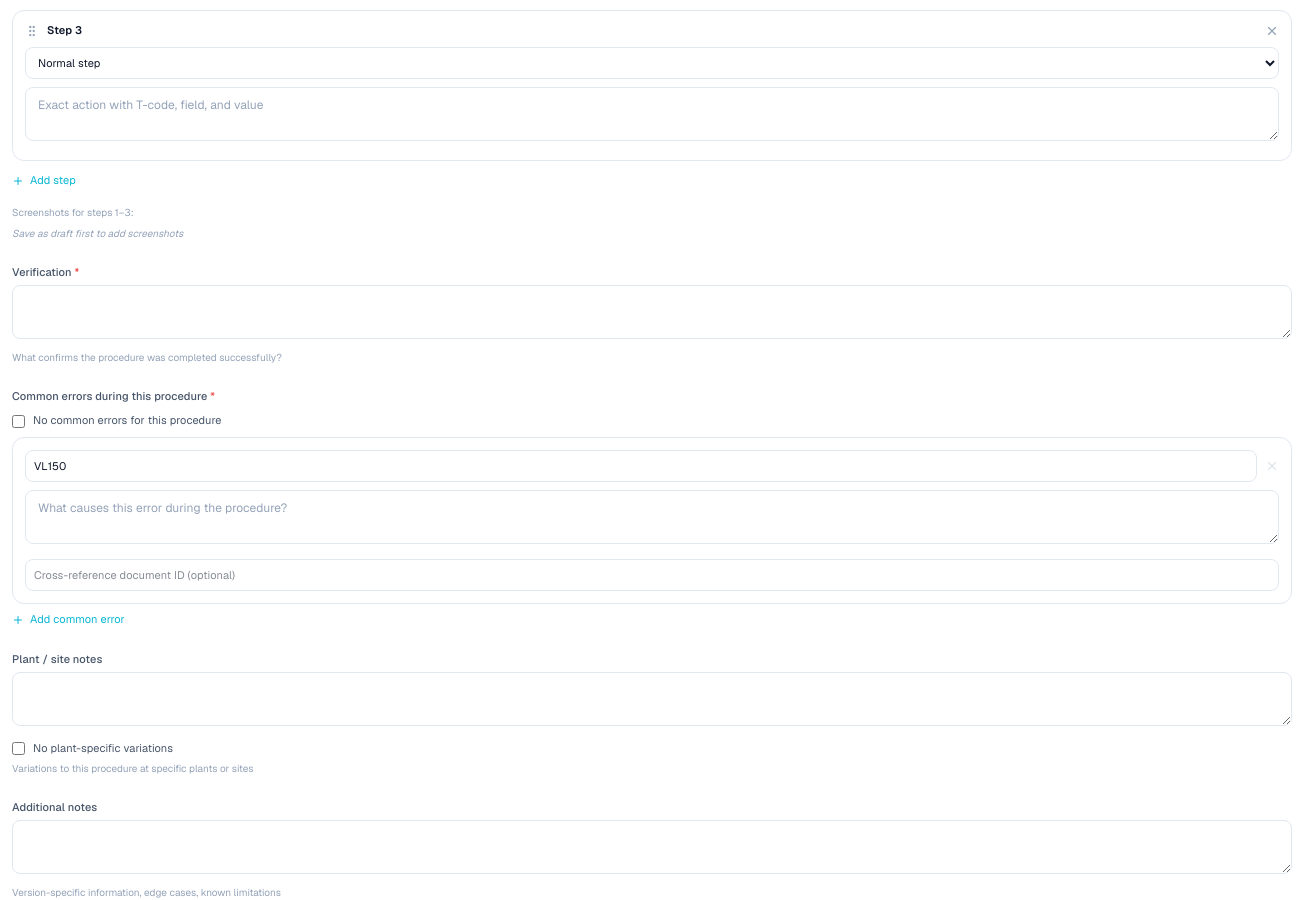
Test: ProcedureFormFields › checks a cross-referenced document ID via validateReference
(page scrolled)
Type "SD-ERR-001" into the field with placeholder "Cross-reference document ID (optional)".
click(652, 575); type("SD-ERR-001")  # box [25,559,1279,591]
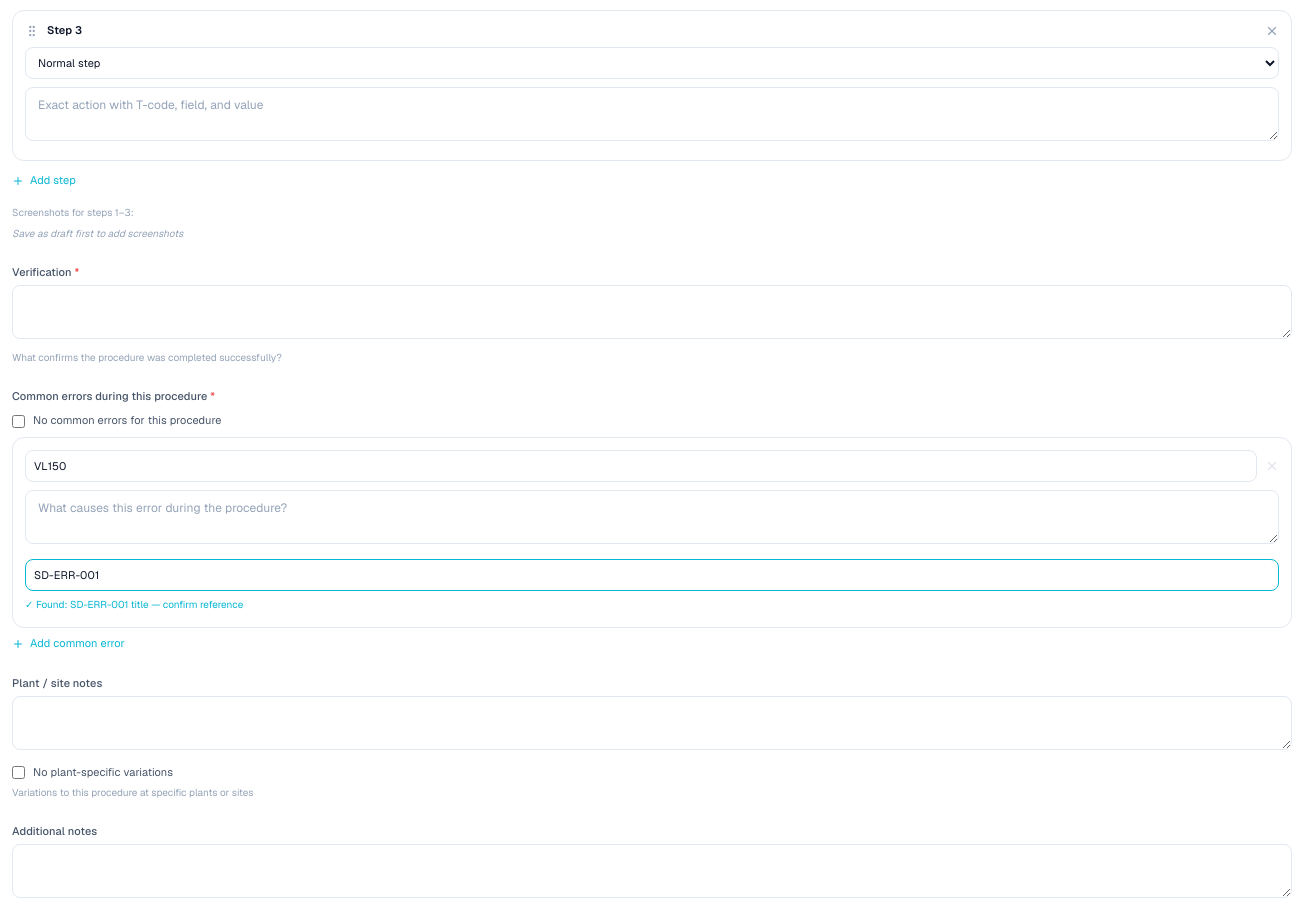
expect the button "✓ Found: SD-ERR-001 title — confirm reference" is shown: met, box [25,597,243,612]
